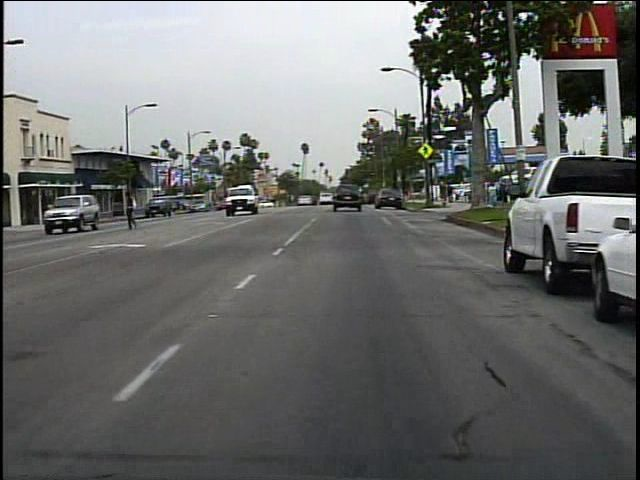person: (121, 187, 146, 233), (486, 180, 499, 211)
